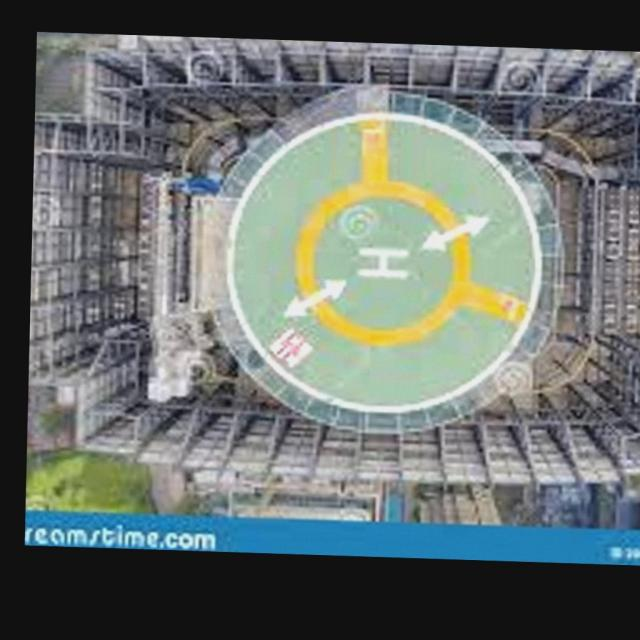helipad: (286, 174, 473, 353)
